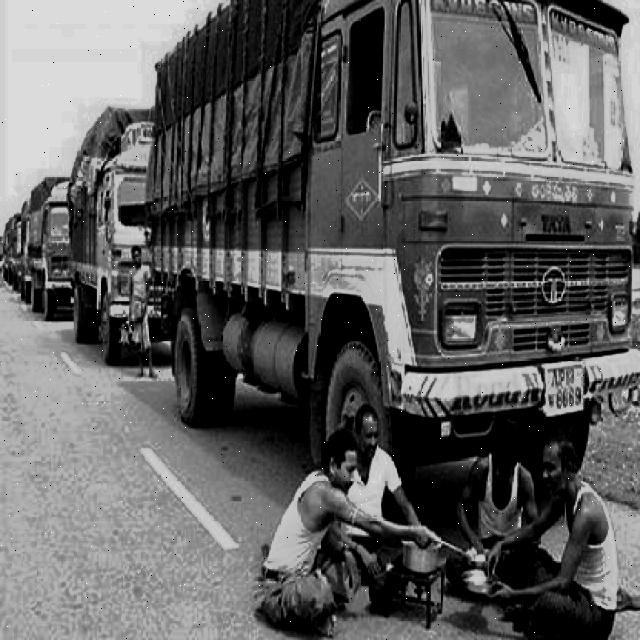HCV: (150, 32, 638, 454), (51, 123, 177, 329), (31, 195, 83, 304), (8, 232, 60, 312)
